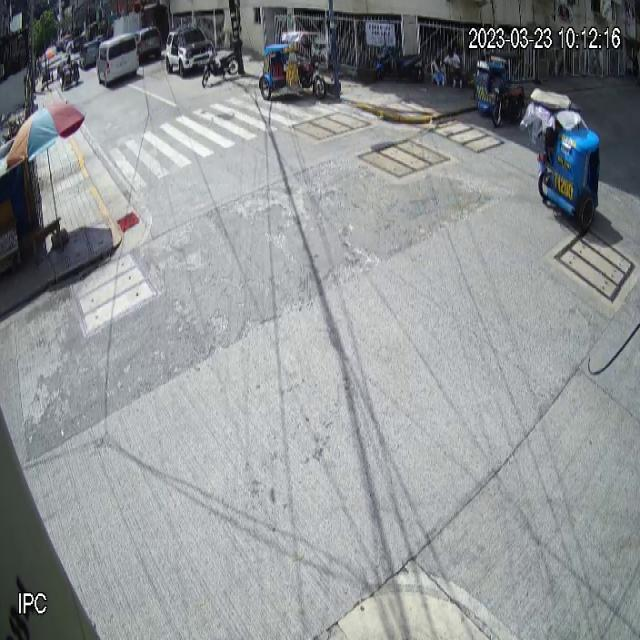Motorcycle: (202, 46, 240, 89)
Tricycle: (522, 82, 602, 234), (258, 30, 328, 102), (475, 51, 526, 128)
Van: (95, 31, 140, 88)
